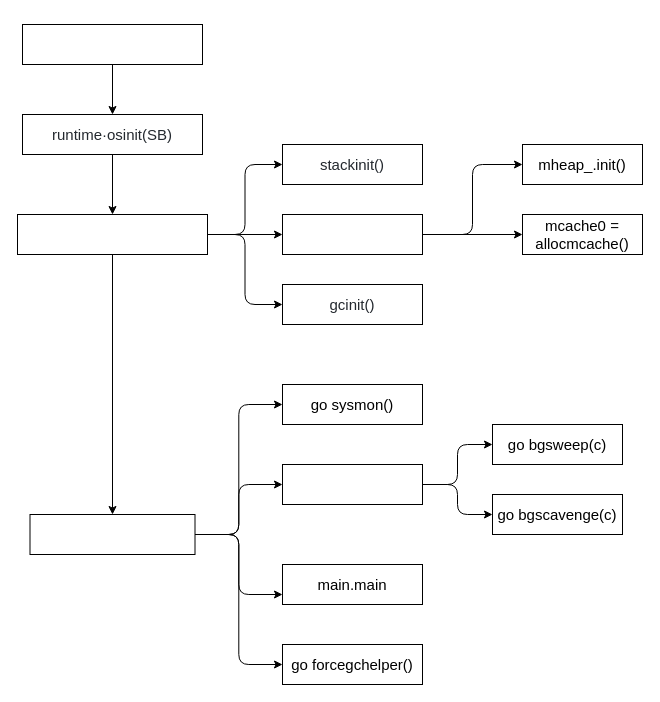
Some shapes in this 660 by 702 pixel diagram are drawn without their labels. Here are the shapes that lost their labels. From the top down, the centre of each, then its label:
(x=112, y=44): runtime· args ( SB )
(x=112, y=234): runtime· schedinit ( SB )
(x=352, y=234): mallocinit()
(x=352, y=484): gcenable()
(x=112, y=534): runtime.main()
